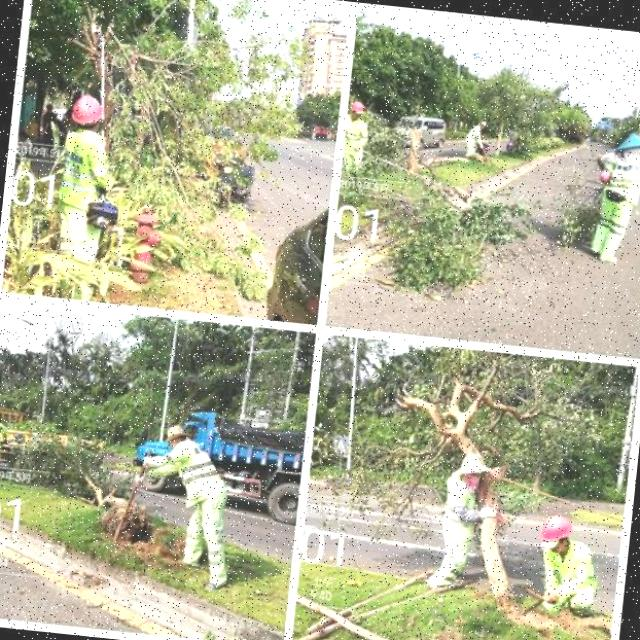fallen_object: (334, 341, 599, 623), (2, 417, 156, 542)
